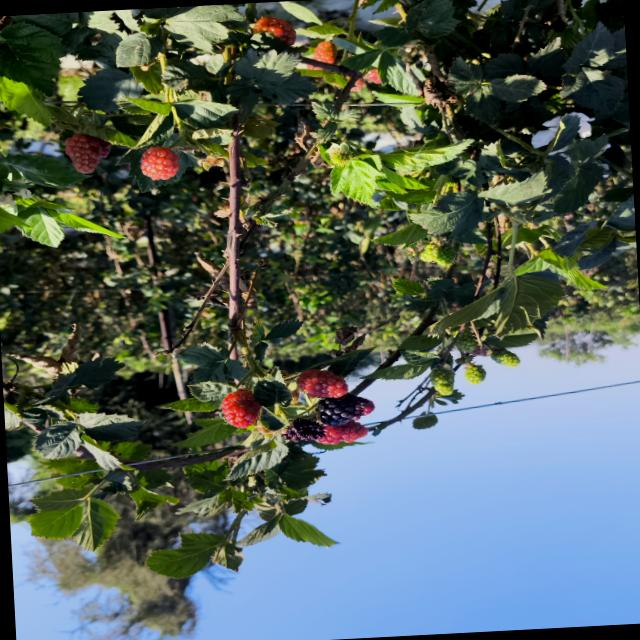maduro: (318, 394, 375, 426)
naranja: (65, 134, 112, 173), (222, 390, 262, 428), (297, 369, 348, 398), (316, 421, 369, 445), (141, 147, 179, 180), (254, 17, 297, 46), (312, 41, 337, 64), (308, 65, 316, 69)
verde: (431, 368, 454, 395), (456, 328, 479, 352), (491, 349, 520, 367), (435, 245, 457, 266), (465, 365, 486, 384), (419, 244, 437, 262)
